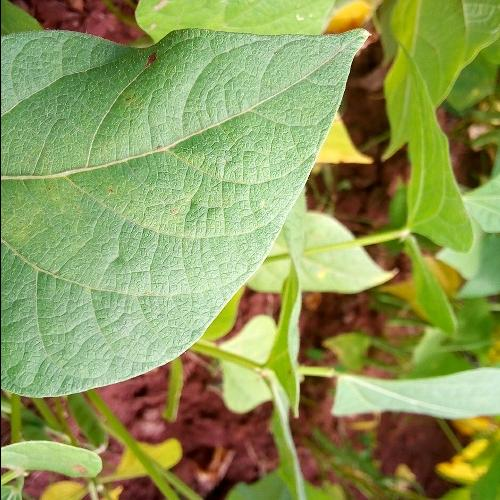sehat: (15, 21, 282, 355)
